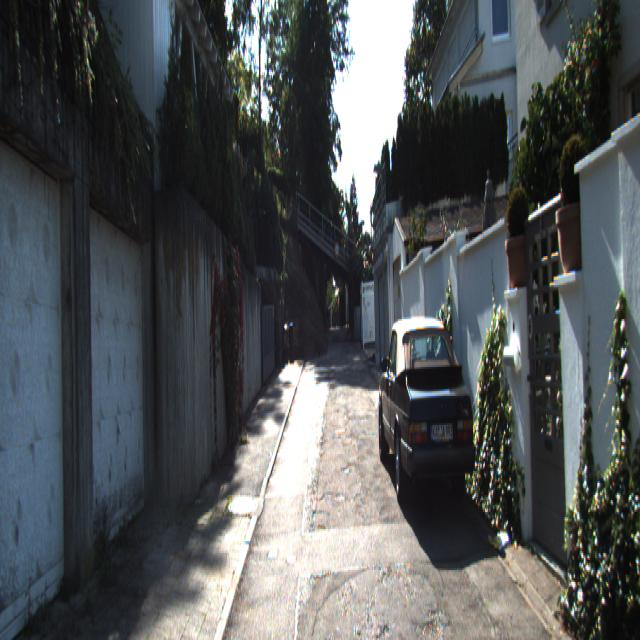Car: (375, 311, 479, 522)
